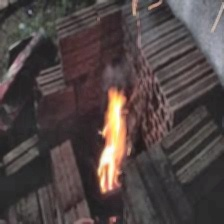fire: (89, 81, 138, 206)
